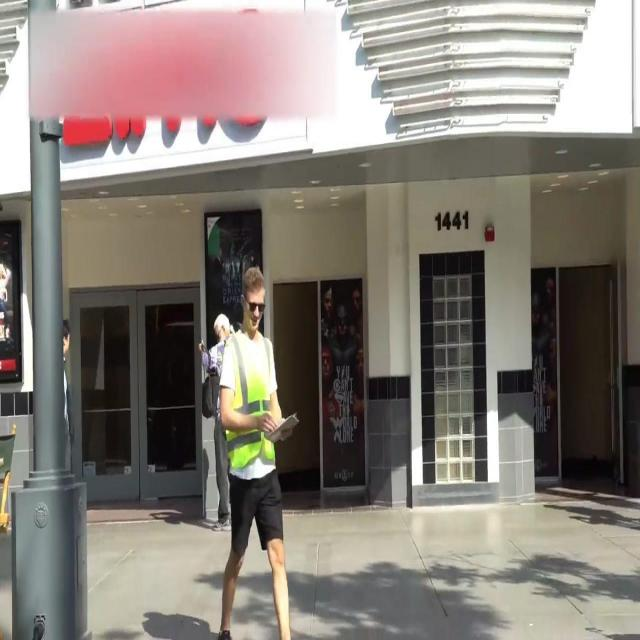vest: (225, 330, 277, 469)
